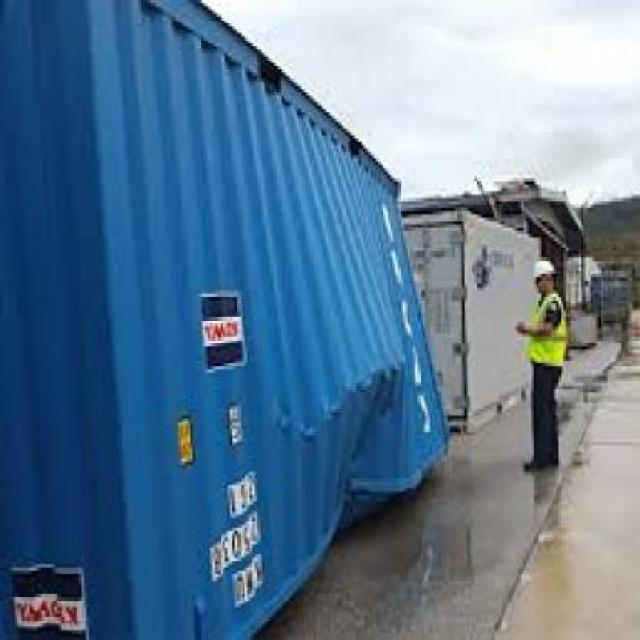dent: (275, 352, 424, 607)
